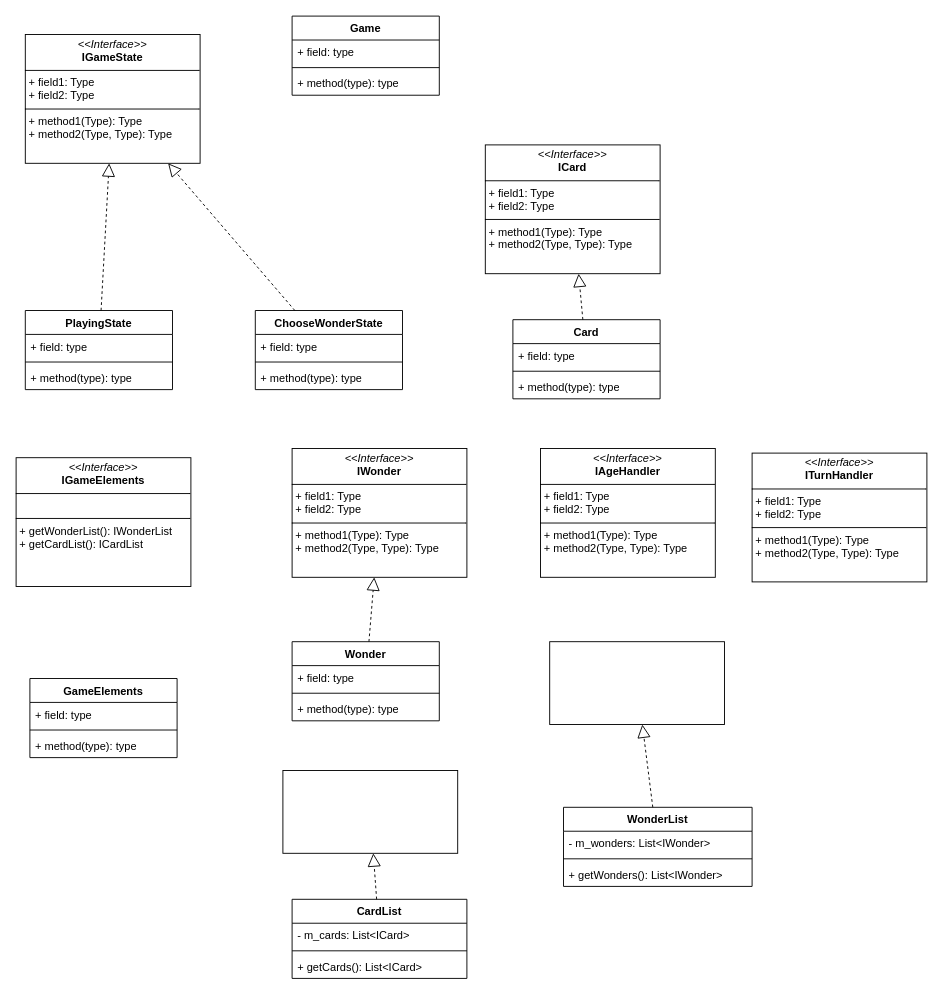
This 943x997 diagram has some shape labels left out. The shapes that lost their labels are listed below. From the top down, each one's centre as x and y in pixels, then its label:
At (x=636, y=682): "<<Interface>> IWonderList + getWonders(): List<IWonder>".
At (x=370, y=811): "<<Interface>> ICardList + getCards(): List<ICard>".
